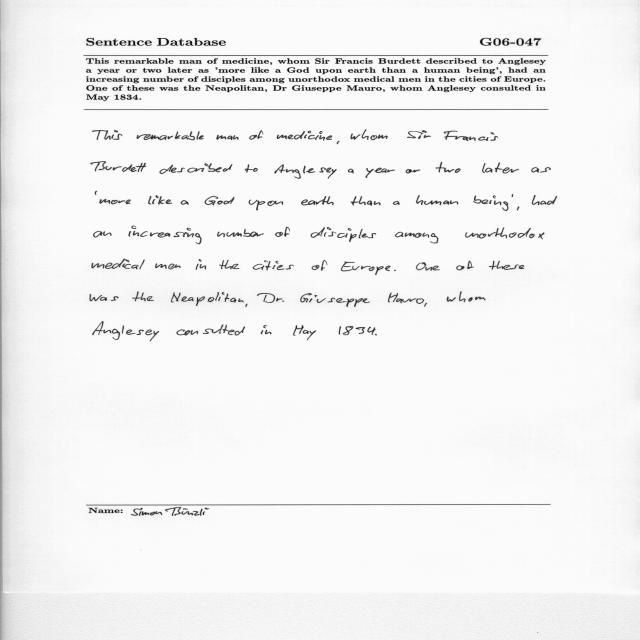word: (128, 226, 202, 244), (93, 321, 159, 341), (171, 292, 244, 306), (300, 293, 370, 307), (311, 227, 376, 242), (465, 228, 545, 240), (275, 164, 337, 179), (159, 163, 233, 174), (177, 325, 246, 336), (341, 262, 391, 275), (137, 132, 204, 141), (473, 195, 509, 211), (91, 162, 147, 172), (277, 131, 332, 141), (444, 131, 498, 141), (92, 259, 145, 269), (395, 232, 438, 243), (416, 195, 458, 205), (253, 261, 294, 271), (482, 163, 519, 174), (388, 293, 424, 304), (447, 292, 486, 302), (217, 229, 264, 237), (249, 200, 283, 211), (351, 130, 388, 140), (293, 325, 316, 340), (339, 326, 376, 335), (489, 261, 524, 270), (93, 130, 123, 140), (365, 168, 395, 178), (351, 196, 381, 206), (301, 196, 334, 205), (436, 162, 461, 173), (205, 196, 235, 205), (257, 293, 284, 303), (532, 195, 557, 205), (132, 292, 154, 302), (407, 130, 431, 139), (148, 196, 172, 205), (416, 262, 440, 271), (90, 294, 118, 301), (219, 260, 240, 269), (456, 261, 474, 271), (312, 260, 327, 271), (155, 264, 181, 270), (100, 199, 131, 204), (275, 227, 290, 237), (249, 130, 263, 140), (196, 259, 207, 270), (531, 167, 551, 173), (217, 135, 239, 140), (94, 231, 112, 237), (245, 165, 258, 173), (261, 325, 272, 334), (406, 169, 420, 173), (181, 200, 189, 205), (348, 169, 354, 174), (393, 201, 400, 205), (424, 303, 427, 307), (337, 141, 340, 144), (96, 191, 98, 195), (517, 207, 519, 211), (512, 194, 514, 197), (246, 304, 248, 307), (394, 270, 396, 271), (375, 334, 377, 335)
